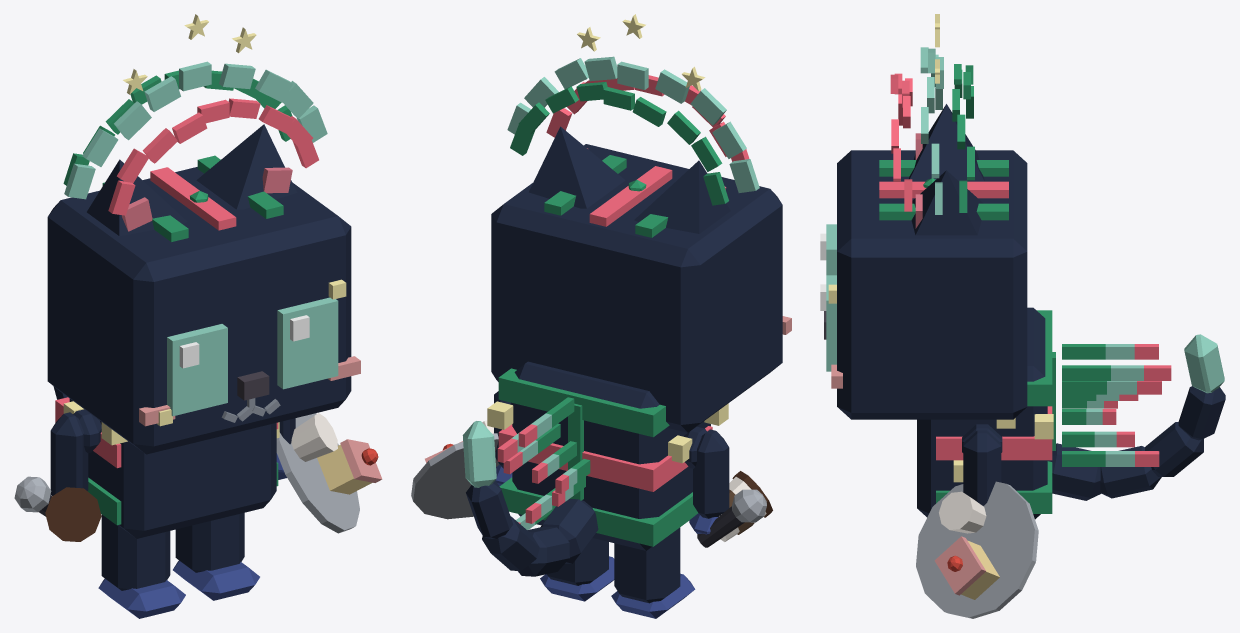
Rendered from CatCafe_Cat_NorthernLights_Work.fbx.
The picture shows the model from 3 angles, left to right: view 1: azimuth 30°, elevation 25°; view 2: azimuth 150°, elevation 25°; view 3: azimuth 270°, elevation 25°; orthographic projection. The views are drawn at different scales.
Parts seen in each view (by area): view 1: CatCafe_Cat_NorthernLights_Work_Head, CatCafe_Cat_NorthernLights_Work_Body, CatCafe_Cat_NorthernLights_Work_Glow, CatCafe_Cat_NorthernLights_Work_Held_Waiter, CatCafe_Cat_NorthernLights_Work_LegB2, CatCafe_Cat_NorthernLights_Work_LegB1, CatCafe_Cat_NorthernLights_Work_Eye1, CatCafe_Cat_NorthernLights_Work_Eye2, CatCafe_Cat_NorthernLights_Work_EarL, CatCafe_Cat_NorthernLights_Work_EarR, CatCafe_Cat_NorthernLights_Work_LegF2, CatCafe_Cat_NorthernLights_Work_Held_Barista (+1 smaller); view 2: CatCafe_Cat_NorthernLights_Work_Head, CatCafe_Cat_NorthernLights_Work_Body, CatCafe_Cat_NorthernLights_Work_Glow, CatCafe_Cat_NorthernLights_Work_Tail, CatCafe_Cat_NorthernLights_Work_Curtain_Glow, CatCafe_Cat_NorthernLights_Work_LegB2, CatCafe_Cat_NorthernLights_Work_EarL, CatCafe_Cat_NorthernLights_Work_Held_Waiter, CatCafe_Cat_NorthernLights_Work_EarR, CatCafe_Cat_NorthernLights_Work_LegF2, CatCafe_Cat_NorthernLights_Work_LegB1, CatCafe_Cat_NorthernLights_Work_Held_Entertainer (+2 smaller); view 3: CatCafe_Cat_NorthernLights_Work_Head, CatCafe_Cat_NorthernLights_Work_Held_Waiter, CatCafe_Cat_NorthernLights_Work_Body, CatCafe_Cat_NorthernLights_Work_Curtain_Glow, CatCafe_Cat_NorthernLights_Work_Tail, CatCafe_Cat_NorthernLights_Work_Glow, CatCafe_Cat_NorthernLights_Work_EarL, CatCafe_Cat_NorthernLights_Work_EarR, CatCafe_Cat_NorthernLights_Work_LegF1, CatCafe_Cat_NorthernLights_Work_Eye1, CatCafe_Cat_NorthernLights_Work_Eye2.
Boxes of the visible parts, <box> form: CatCafe_Cat_NorthernLights_Work_Head: <box>47,155,360,454</box>; CatCafe_Cat_NorthernLights_Work_Body: <box>55,397,279,538</box>; CatCafe_Cat_NorthernLights_Work_Glow: <box>63,14,327,215</box>; CatCafe_Cat_NorthernLights_Work_Held_Waiter: <box>276,413,382,533</box>; CatCafe_Cat_NorthernLights_Work_LegB2: <box>98,514,185,618</box>; CatCafe_Cat_NorthernLights_Work_LegB1: <box>173,512,259,600</box>; CatCafe_Cat_NorthernLights_Work_Eye1: <box>277,297,338,389</box>; CatCafe_Cat_NorthernLights_Work_Eye2: <box>167,324,227,416</box>; CatCafe_Cat_NorthernLights_Work_EarL: <box>196,124,297,209</box>; CatCafe_Cat_NorthernLights_Work_EarR: <box>87,159,187,236</box>; CatCafe_Cat_NorthernLights_Work_LegF2: <box>50,412,88,495</box>; CatCafe_Cat_NorthernLights_Work_Held_Barista: <box>45,487,101,541</box>; CatCafe_Cat_NorthernLights_Work_Head: <box>491,144,791,432</box>; CatCafe_Cat_NorthernLights_Work_Body: <box>487,361,728,550</box>; CatCafe_Cat_NorthernLights_Work_Glow: <box>507,14,759,205</box>; CatCafe_Cat_NorthernLights_Work_Tail: <box>462,421,598,576</box>; CatCafe_Cat_NorthernLights_Work_Curtain_Glow: <box>497,397,590,529</box>; CatCafe_Cat_NorthernLights_Work_LegB2: <box>611,527,695,618</box>; CatCafe_Cat_NorthernLights_Work_EarL: <box>529,126,625,208</box>; CatCafe_Cat_NorthernLights_Work_Held_Waiter: <box>411,420,499,519</box>; CatCafe_Cat_NorthernLights_Work_EarR: <box>634,160,730,233</box>; CatCafe_Cat_NorthernLights_Work_LegF2: <box>689,429,729,534</box>; CatCafe_Cat_NorthernLights_Work_LegB1: <box>540,538,614,601</box>; CatCafe_Cat_NorthernLights_Work_Held_Entertainer: <box>697,489,766,547</box>; CatCafe_Cat_NorthernLights_Work_Head: <box>824,150,1027,419</box>; CatCafe_Cat_NorthernLights_Work_Held_Waiter: <box>916,481,1038,618</box>; CatCafe_Cat_NorthernLights_Work_Body: <box>917,307,1053,519</box>; CatCafe_Cat_NorthernLights_Work_Curtain_Glow: <box>1062,344,1171,466</box>; CatCafe_Cat_NorthernLights_Work_Tail: <box>1047,334,1225,500</box>; CatCafe_Cat_NorthernLights_Work_Glow: <box>890,14,974,214</box>; CatCafe_Cat_NorthernLights_Work_EarL: <box>911,170,983,235</box>; CatCafe_Cat_NorthernLights_Work_EarR: <box>909,104,984,181</box>; CatCafe_Cat_NorthernLights_Work_LegF1: <box>963,430,1001,505</box>; CatCafe_Cat_NorthernLights_Work_Eye1: <box>820,275,836,371</box>; CatCafe_Cat_NorthernLights_Work_Eye2: <box>820,224,836,275</box>.
Size of the model in its own units: 1.53 by 2.47 by 1.62.
1 material, 1 textured.
